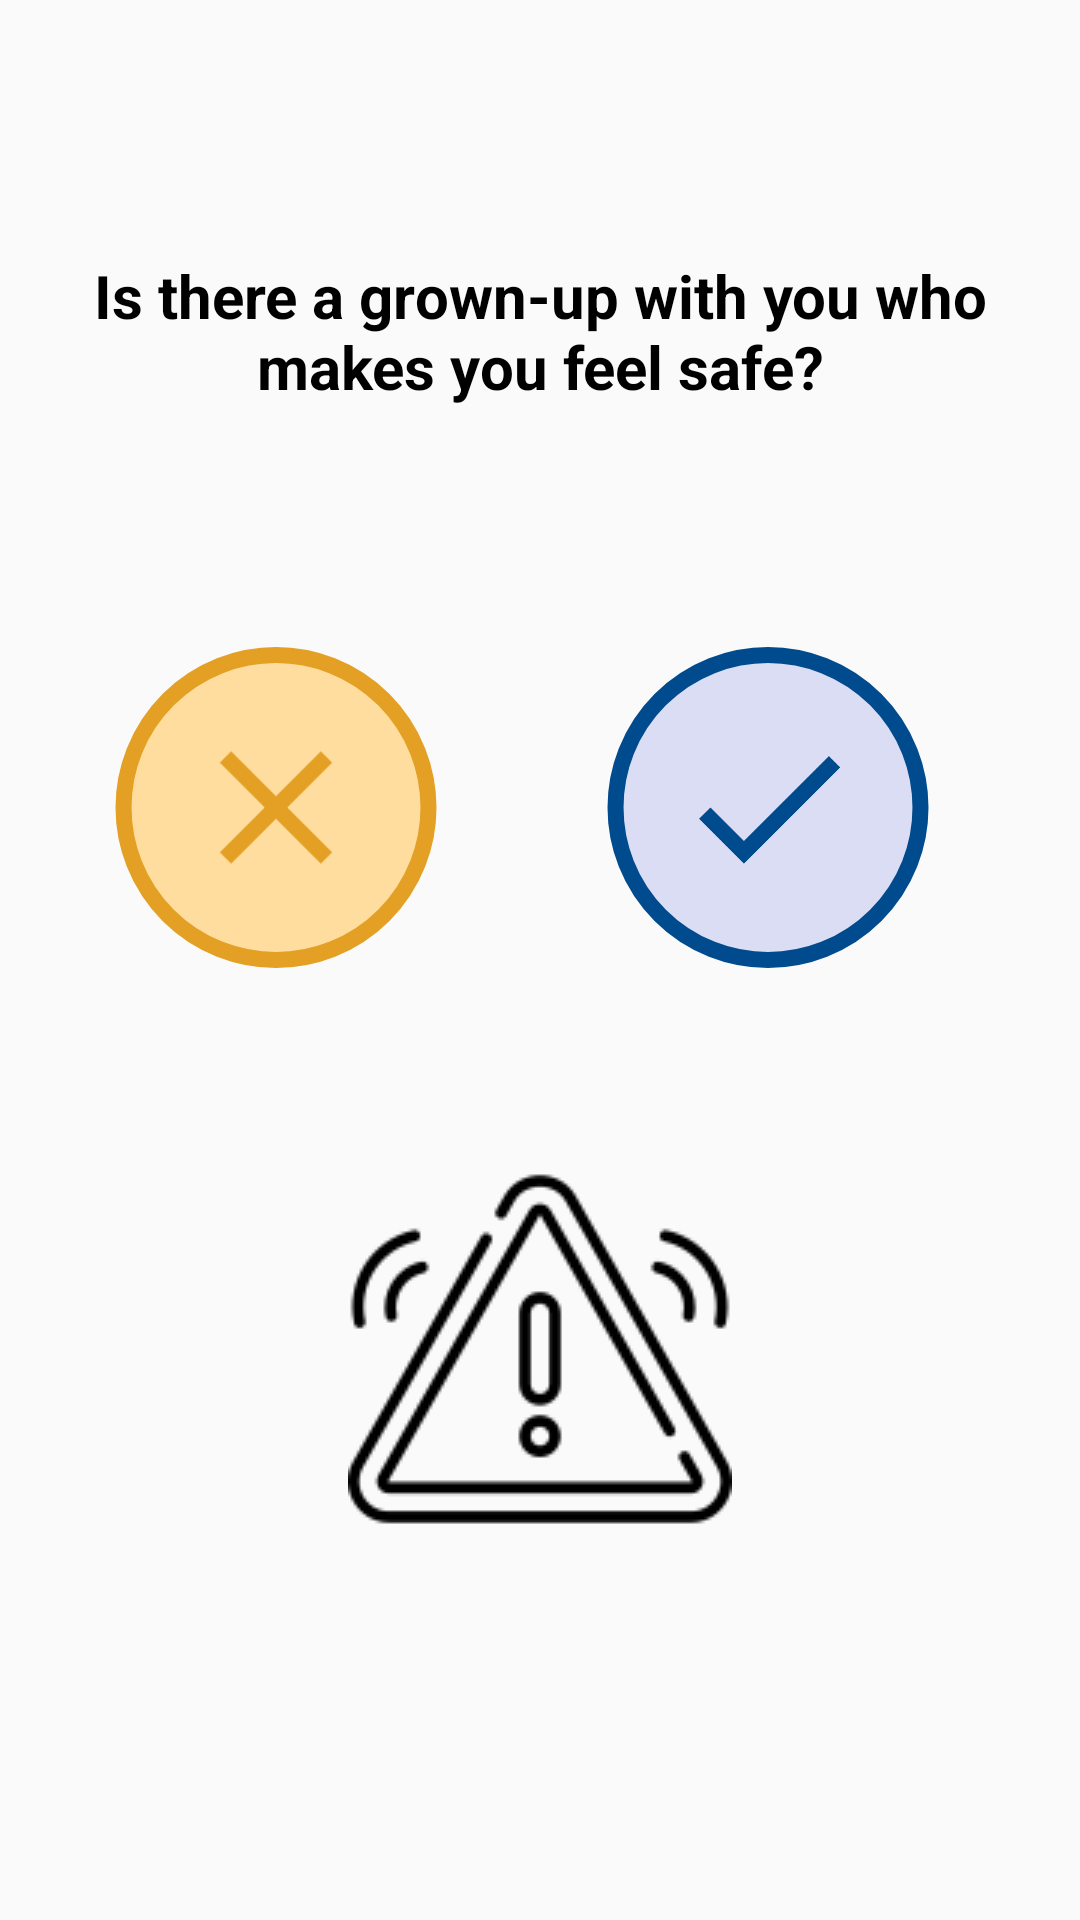

Where to tap for icons on this 1080 x 1920 app screen, as (x,y):
close: (276,807)
tick: (768,807)
